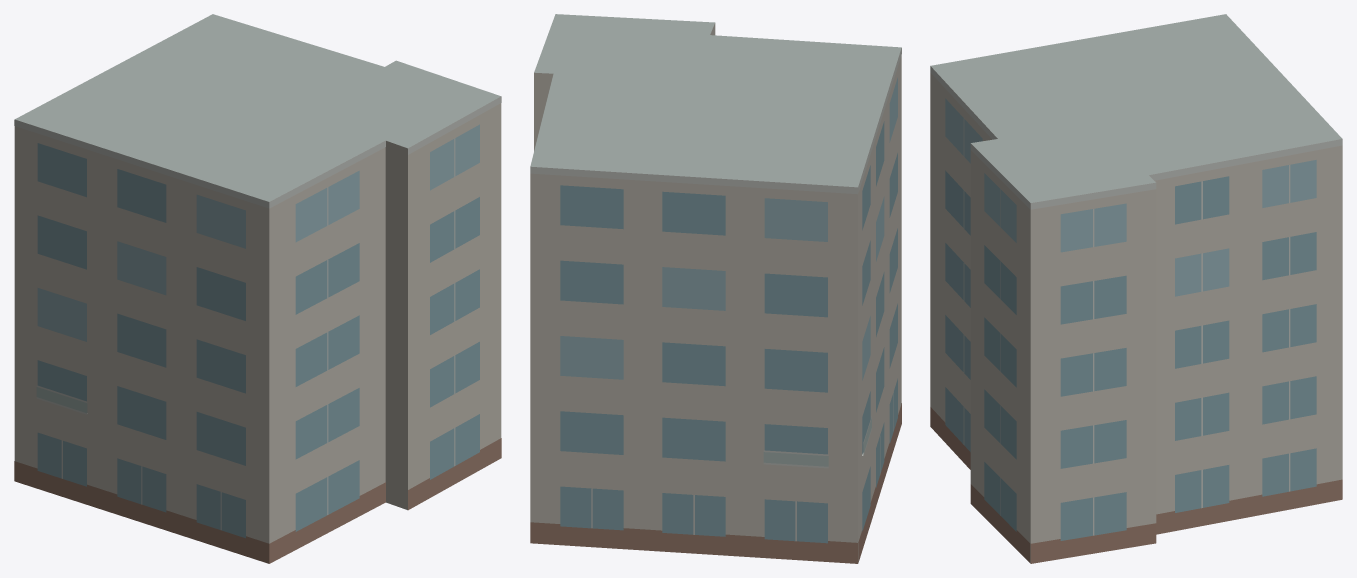
File: survey-upis-32843030.glb
The picture shows the model from 3 angles, left to right: view 1: azimuth 30°, elevation 25°; view 2: azimuth 150°, elevation 25°; view 3: azimuth 270°, elevation 25°; orthographic projection. The views are drawn at different scales.
Parts seen in each view (by area): view 1: survey-upis-32843030.tmp; view 2: survey-upis-32843030.tmp; view 3: survey-upis-32843030.tmp.
Part boxes in pixels (x1,y1,x2,y2): survey-upis-32843030.tmp: (14, 14, 501, 563); survey-upis-32843030.tmp: (530, 14, 901, 563); survey-upis-32843030.tmp: (930, 14, 1342, 563).
Bounding box in the file's own units: 15.07 × 13.39 × 13.88.
